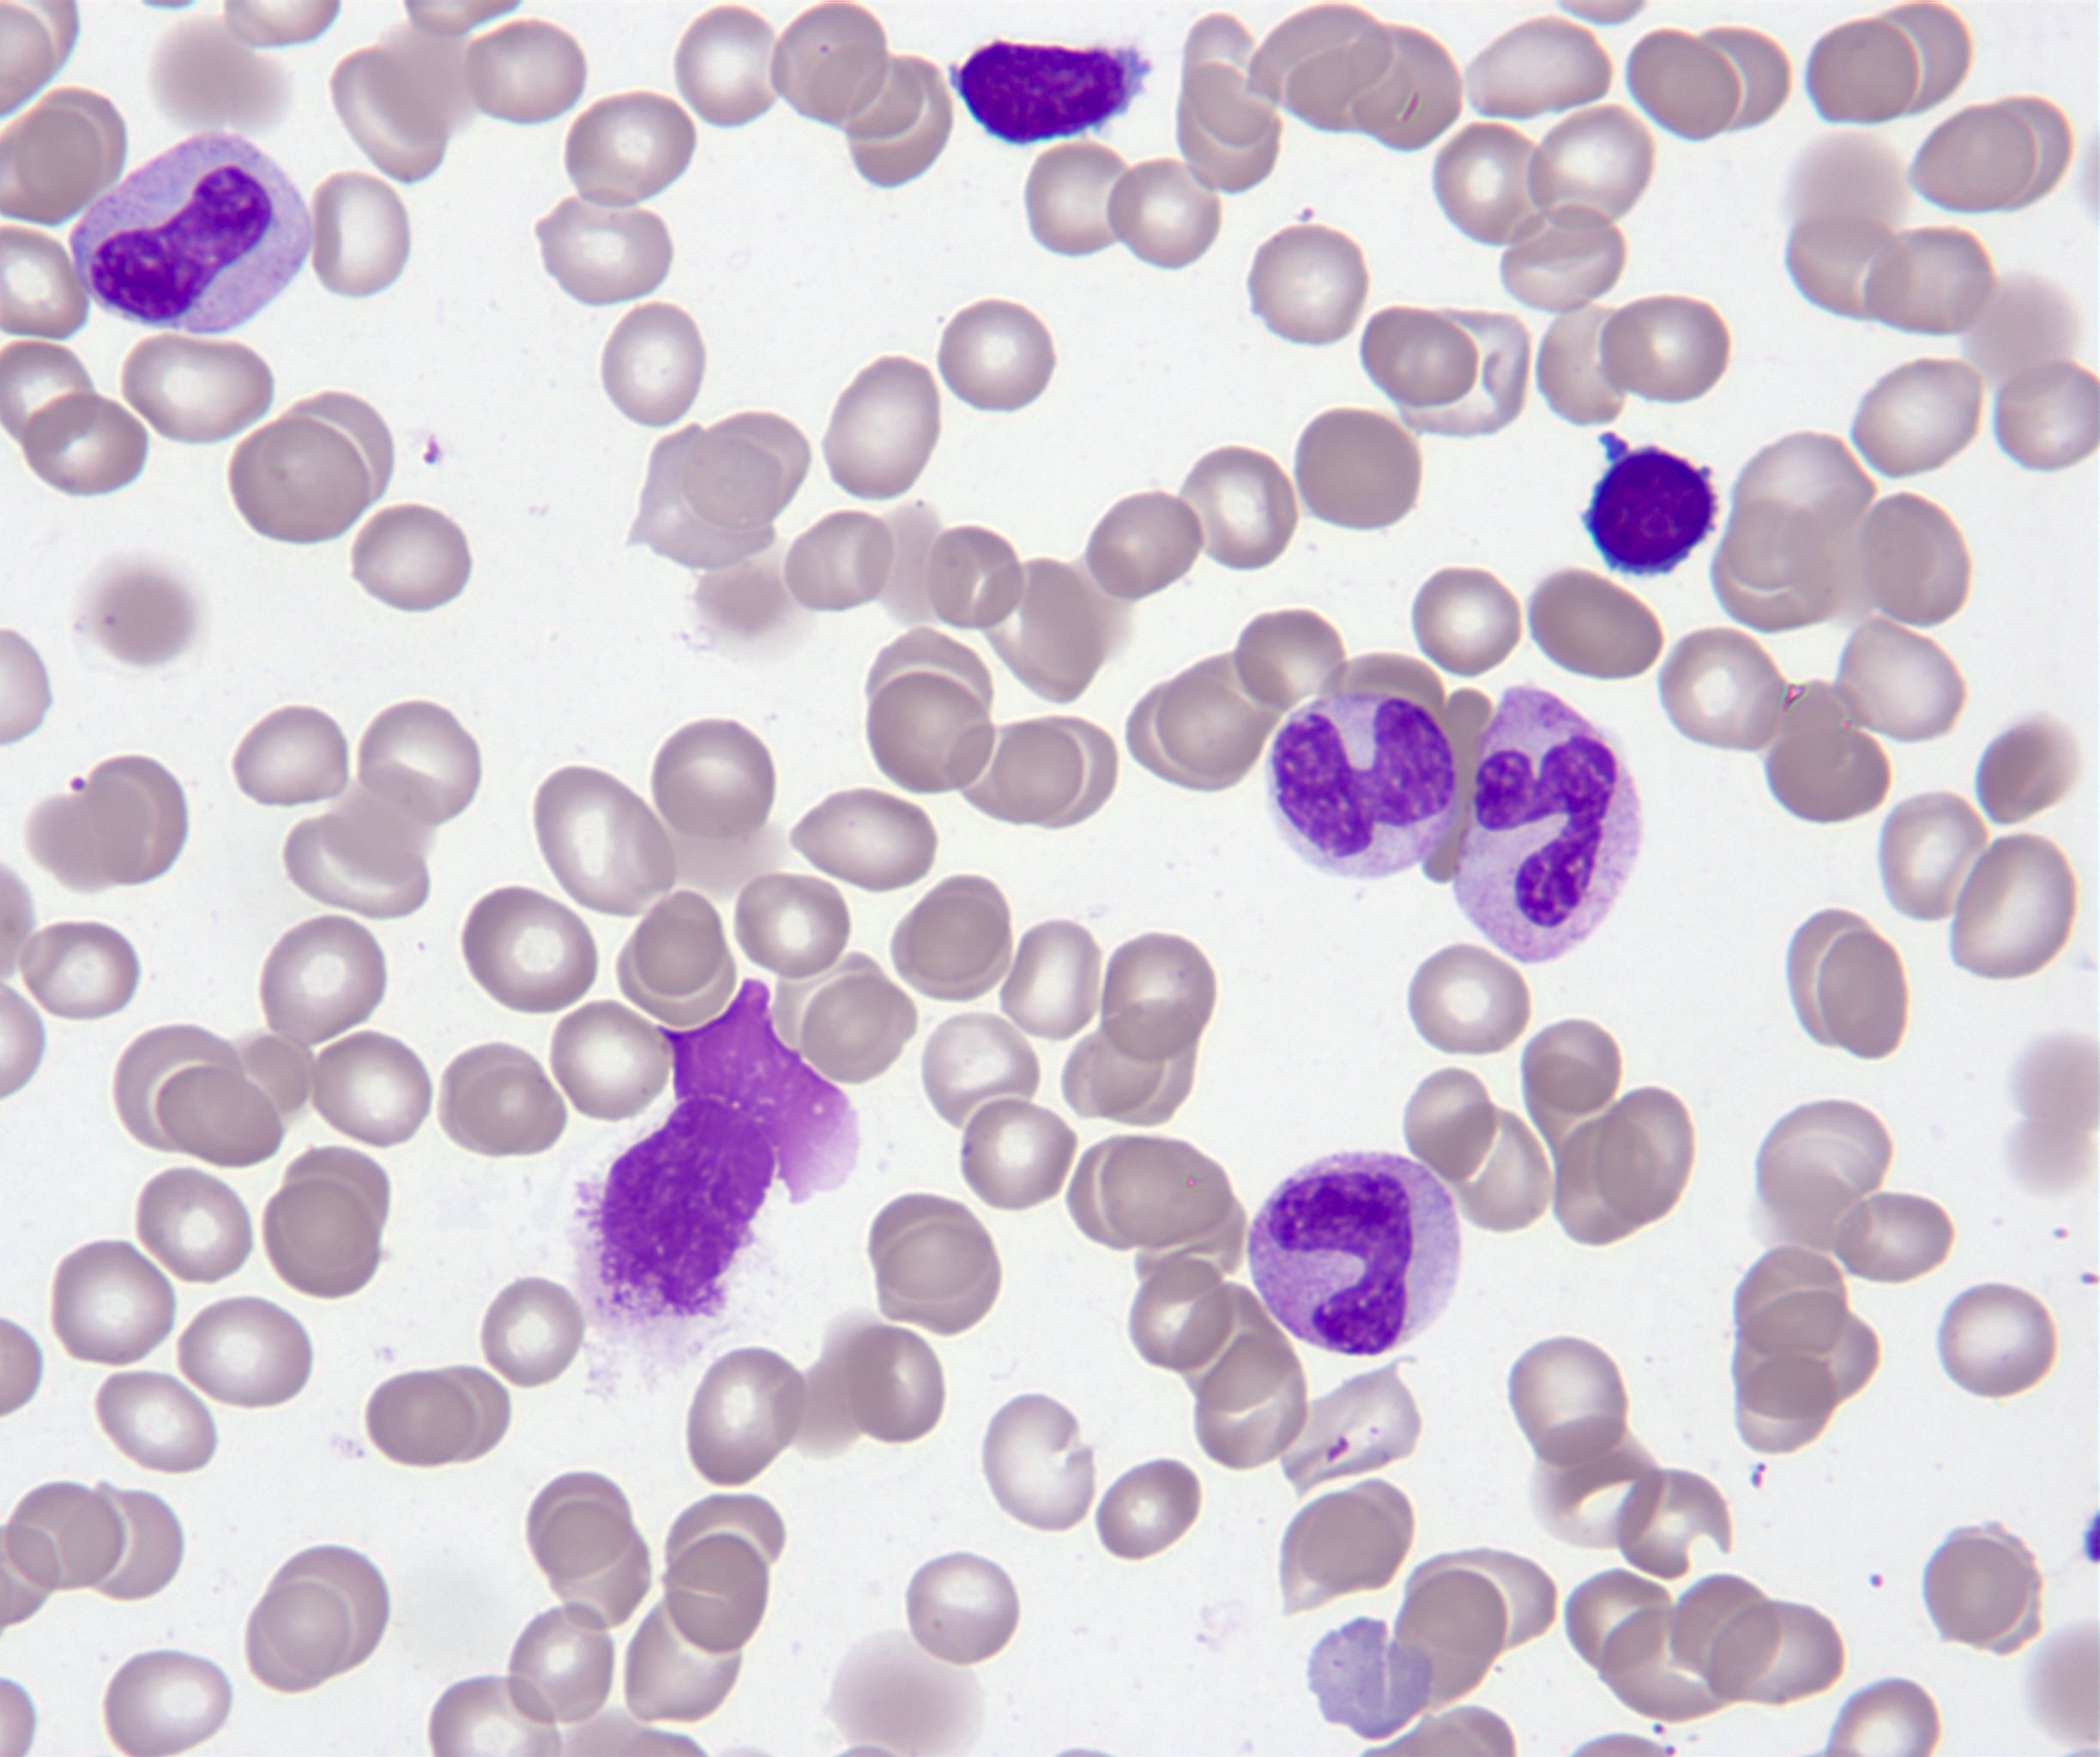32: (951, 42, 1151, 145), (1578, 429, 1715, 574)
4: (70, 131, 310, 335)
5: (1251, 1152, 1460, 1354)
6: (1449, 686, 1640, 963), (1266, 696, 1458, 879)
x: (563, 1089, 773, 1396), (658, 977, 858, 1206)
